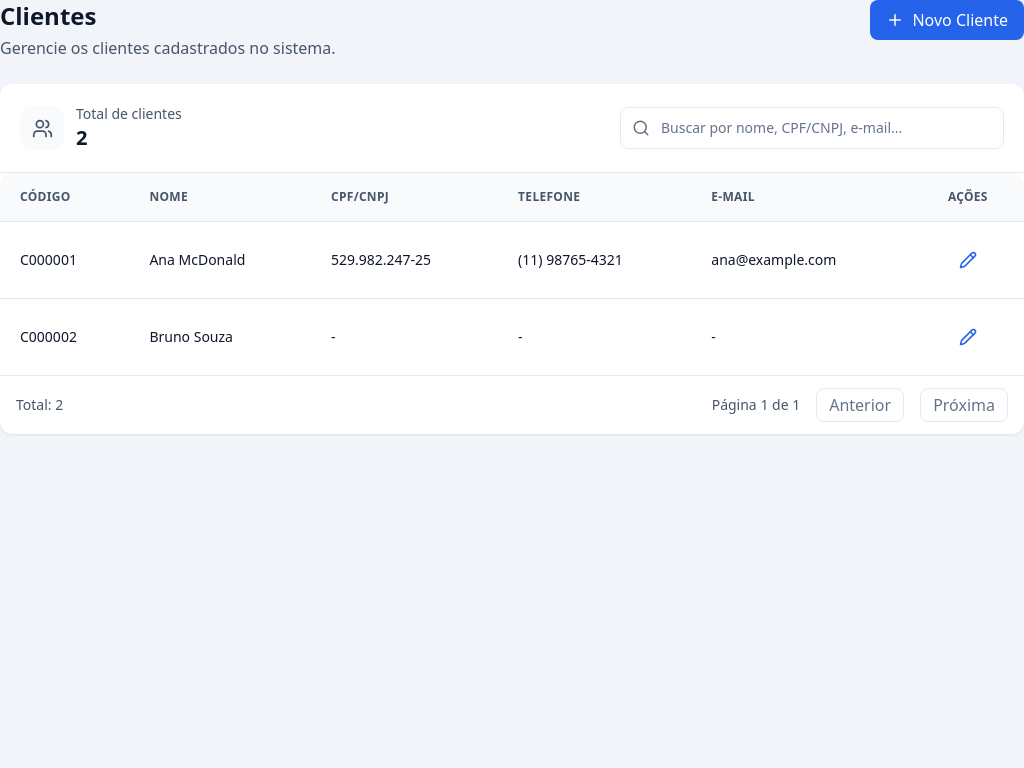
Test: CustomerListPage › editar na lista envia só os campos alterados (PATCH { name })
Expected: the text "Ana McDonald" is shown, [129,222,311,298]
Click the button named "Editar Ana McDonald": (968, 260) [946,238,990,282]
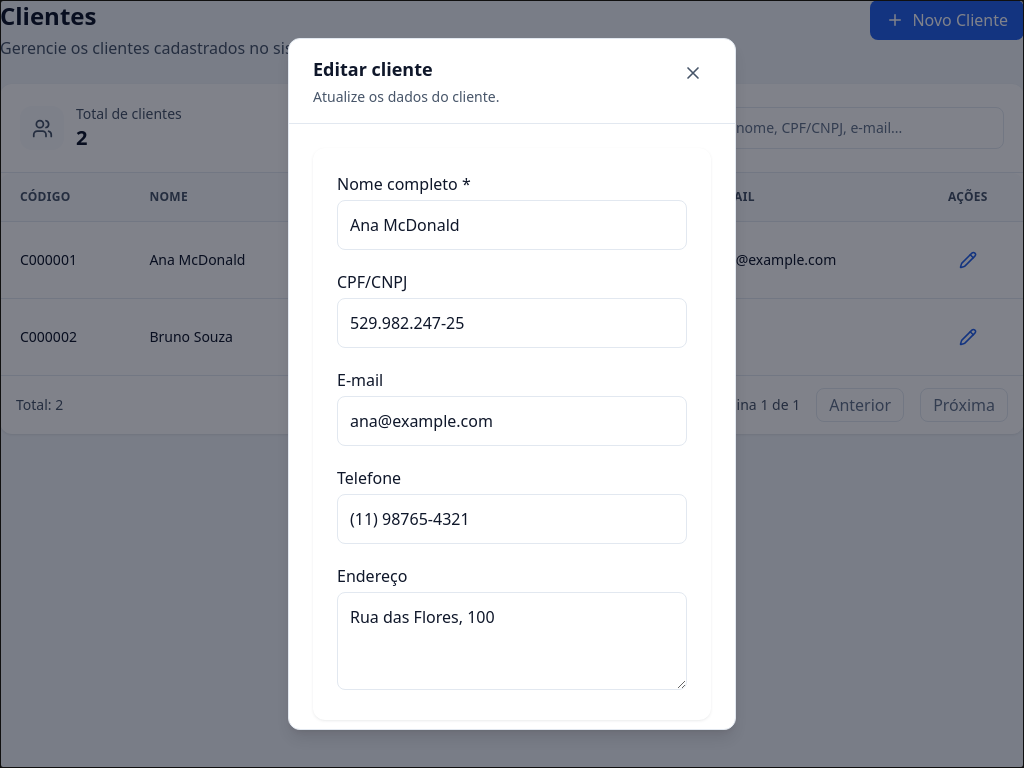
Replace the text in the field labelled "Nome completo *" with "Ana Maria": (512, 225) [337,200,687,250]
(page scrolled)
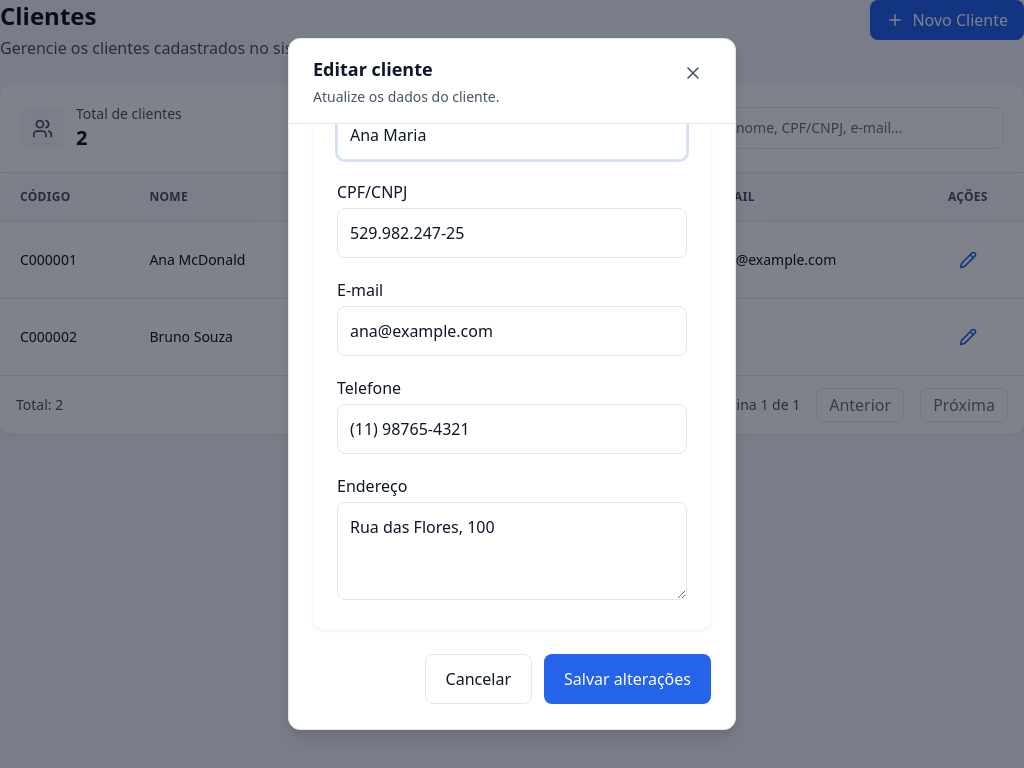
Click the button "Salvar alterações": (628, 679) [544,654,711,704]
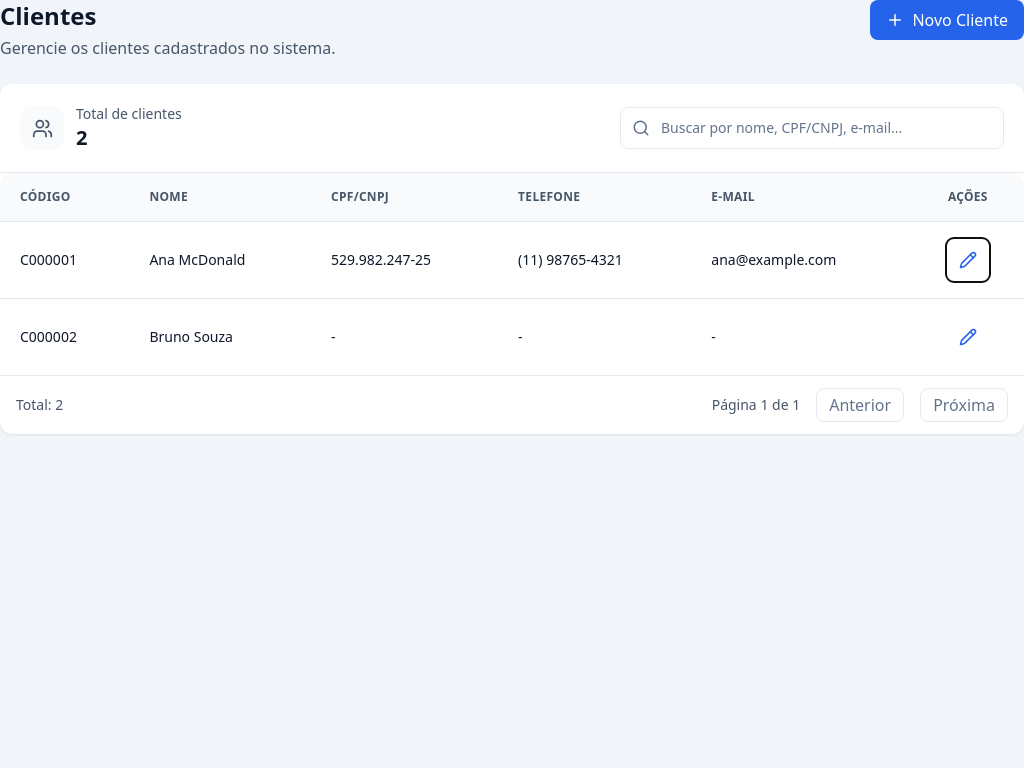
Expected: the dialog is gone
